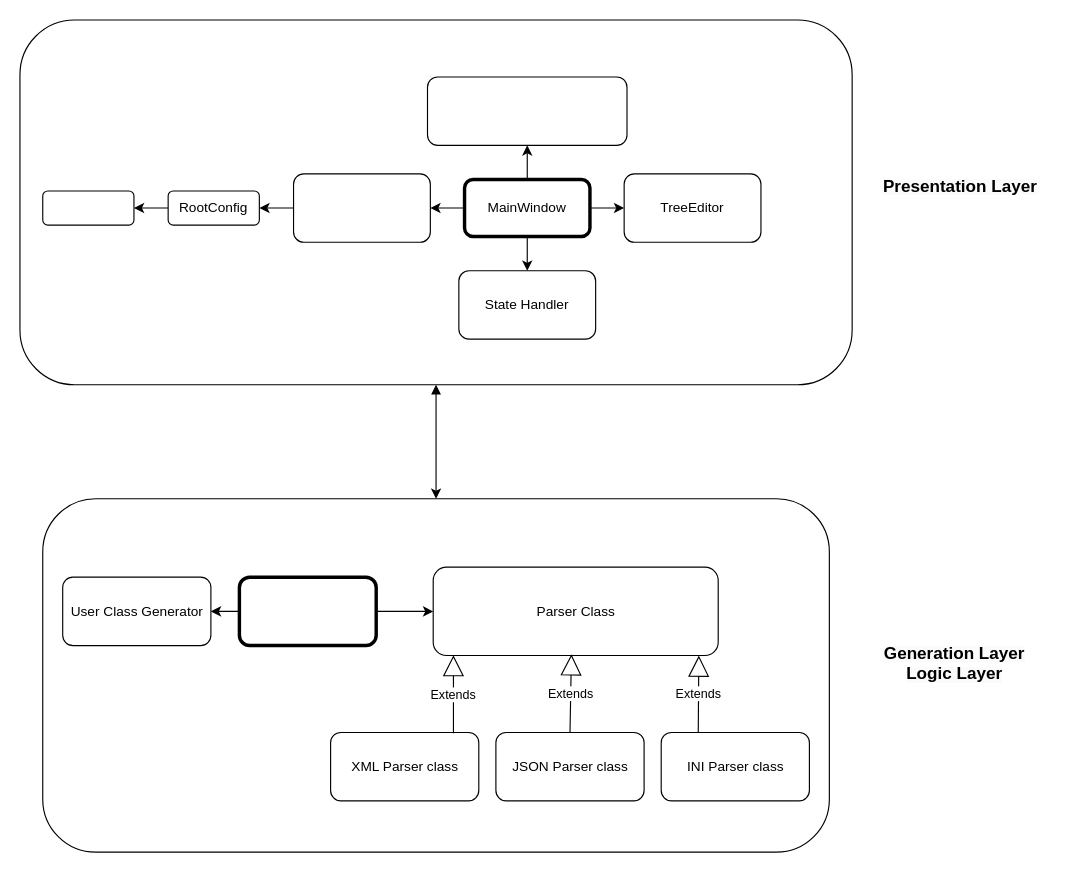
The diagram is 1077 pixels wide and 872 high, and some of its shapes have lost their labels. Here are the shapes that lost their labels. From the top down, the box of each, then its label:
(426, 76, 627, 145): IntermediateFormatHandler
(42, 190, 134, 225): Config
(292, 173, 430, 242): TreeParser
(237, 575, 377, 647): Controller
